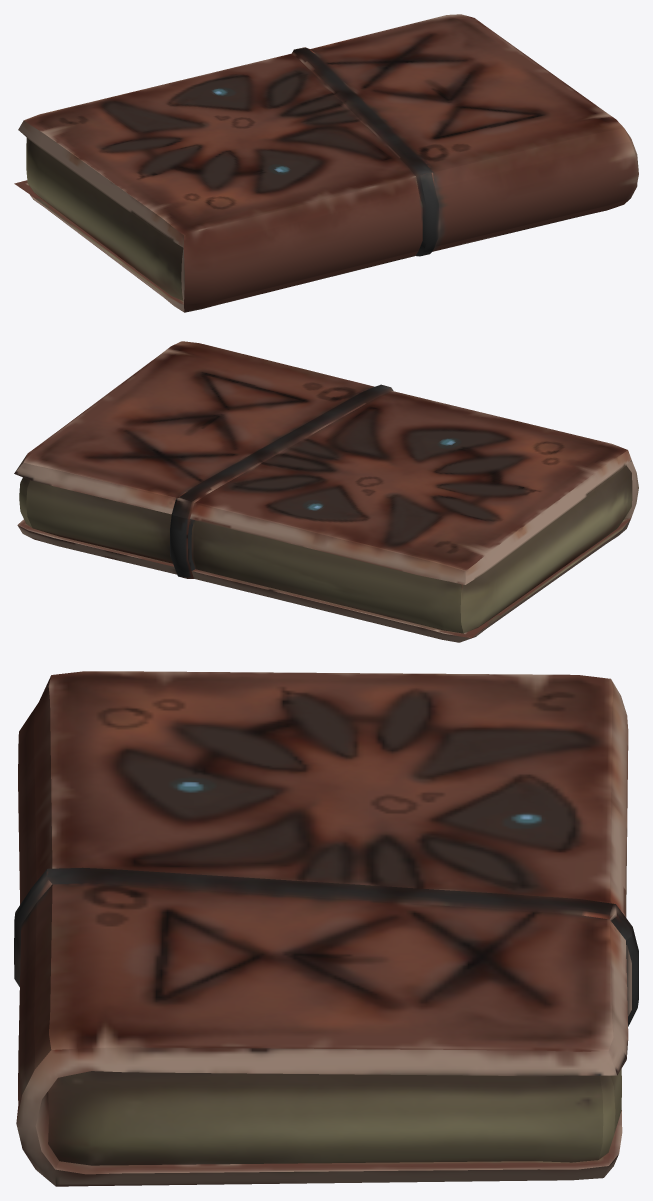
The model's file is dex.fbx.
The picture shows the model from 3 angles, top to bottom: view 1: azimuth 30°, elevation 25°; view 2: azimuth 150°, elevation 25°; view 3: azimuth 270°, elevation 25°; orthographic projection. The views are drawn at different scales.
Parts seen in each view (by area): view 1: Cube; view 2: Cube; view 3: Cube.
Boxes of the visible parts, <box> form: Cube: <box>14,14,638,312</box>; Cube: <box>14,341,638,642</box>; Cube: <box>14,671,638,1186</box>.
Size of the model in its own units: 302 by 52.76 by 206.
